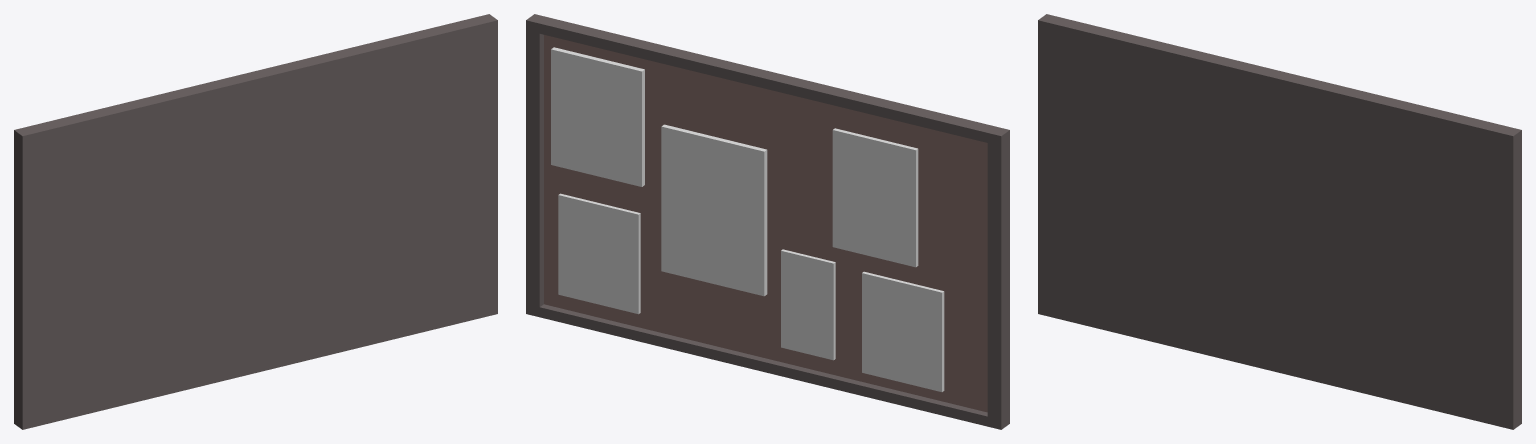
Rendered from board.fbx.
The picture shows the model from 3 angles, left to right: view 1: azimuth 30°, elevation 25°; view 2: azimuth 150°, elevation 25°; view 3: azimuth 330°, elevation 25°; orthographic projection.
Parts seen in each view (by area): view 1: Cube.008; view 2: Cube.008; view 3: Cube.008.
Boxes of the visible parts, left/top/right/bottom form: Cube.008: left=14, top=14, right=497, bottom=429; Cube.008: left=526, top=14, right=1009, bottom=429; Cube.008: left=1038, top=14, right=1521, bottom=429.
Size of the model in its own units: 151 by 89.09 by 4.71.
